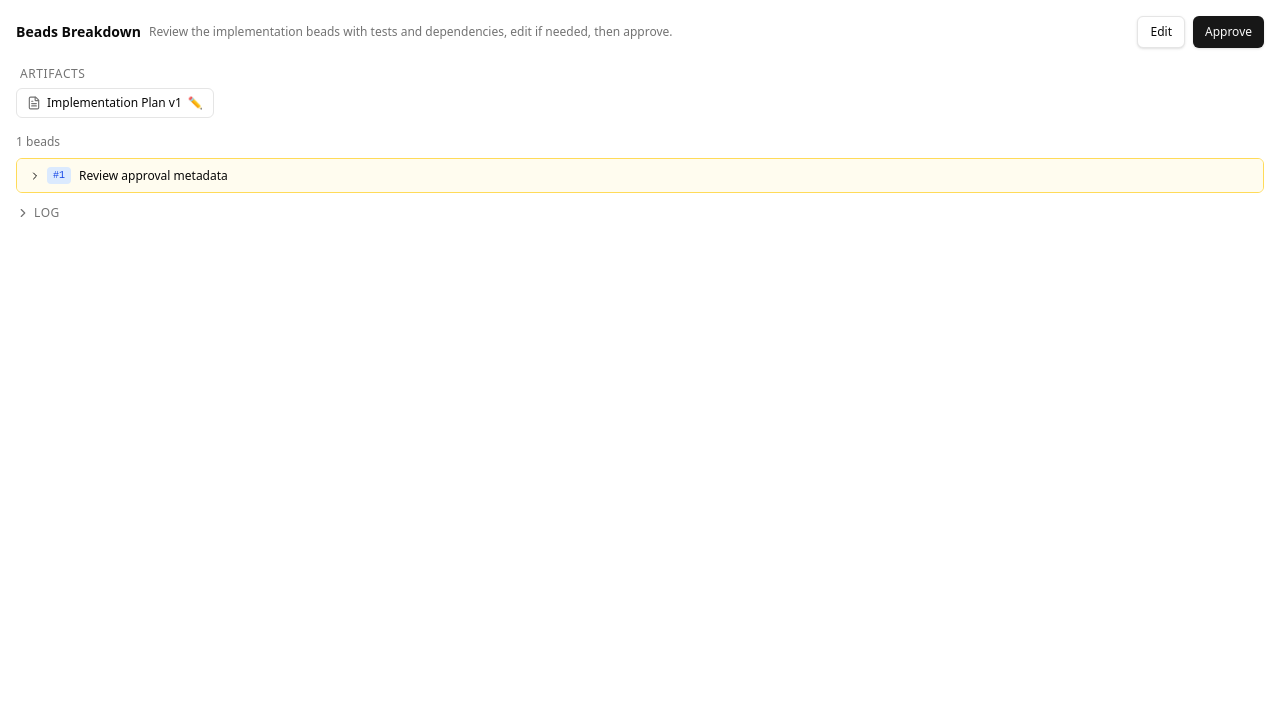
Scenario: Interview approval UI › uses the shared bead renderer with nested metadata in beads approval view
Expected: the text "pending" is not shown
Click the button "#1 Review approval metadata" at (153, 175), box left=17, top=159, right=1263, bottom=192
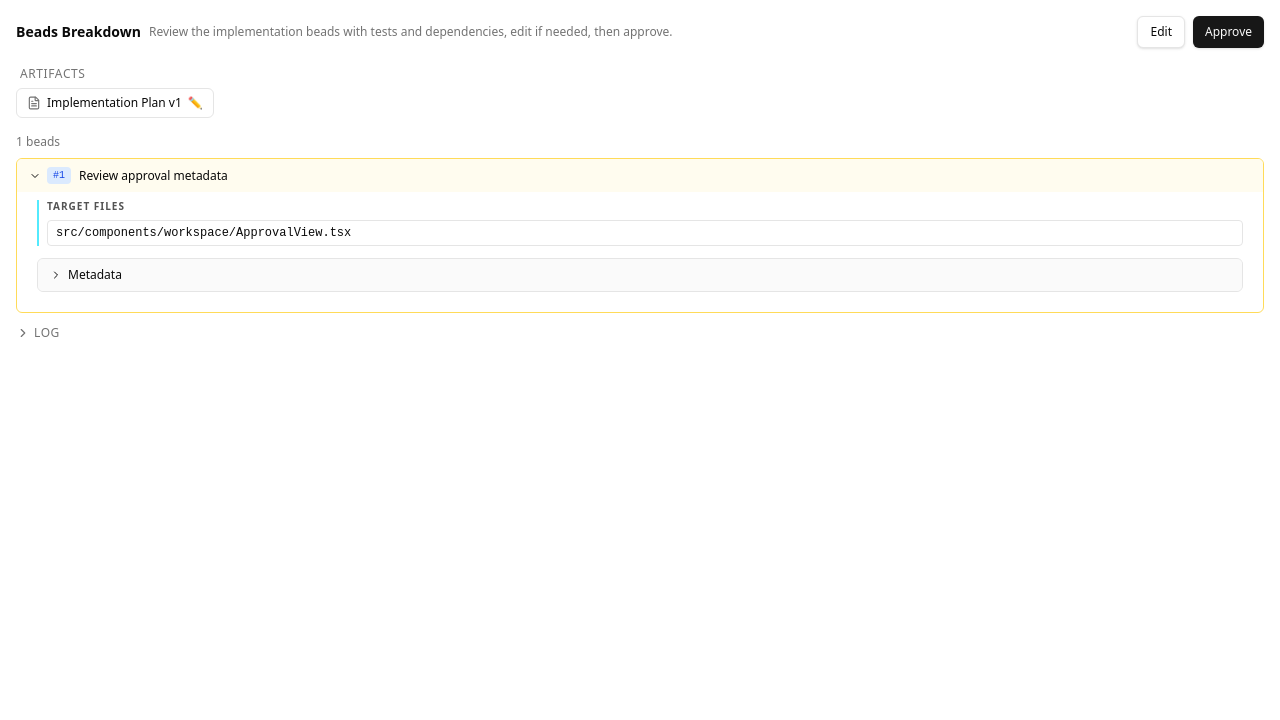
Now the text "Target Files" is shown, box left=47, top=199, right=125, bottom=213
Now the text "src/components/workspace/ApprovalView.tsx" is shown, box left=47, top=220, right=1243, bottom=246
Now the button "Metadata" is shown
Click the button "Metadata" at (95, 274), box left=38, top=259, right=1242, bottom=291
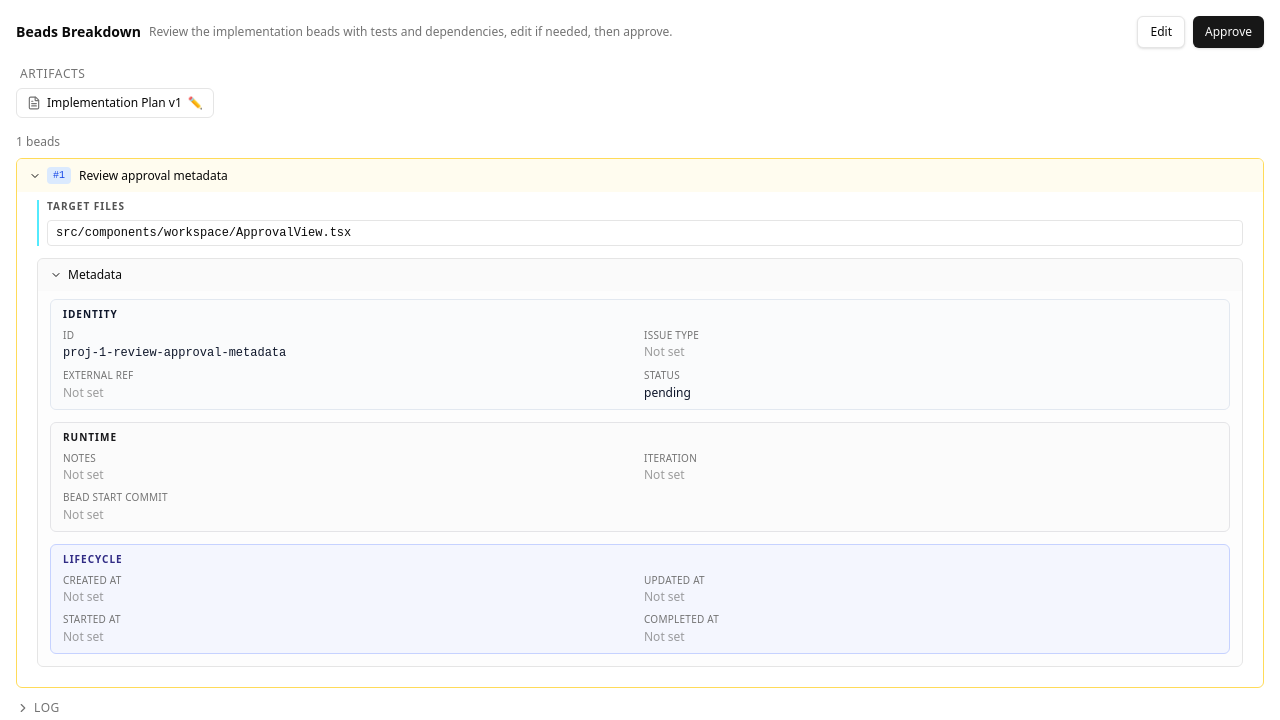
Now the text "Issue Type" is shown, box left=644, top=328, right=699, bottom=342
Now the text "Lifecycle" is shown, box left=63, top=552, right=123, bottom=566
Now the text "pending" is shown, box left=644, top=384, right=691, bottom=401
